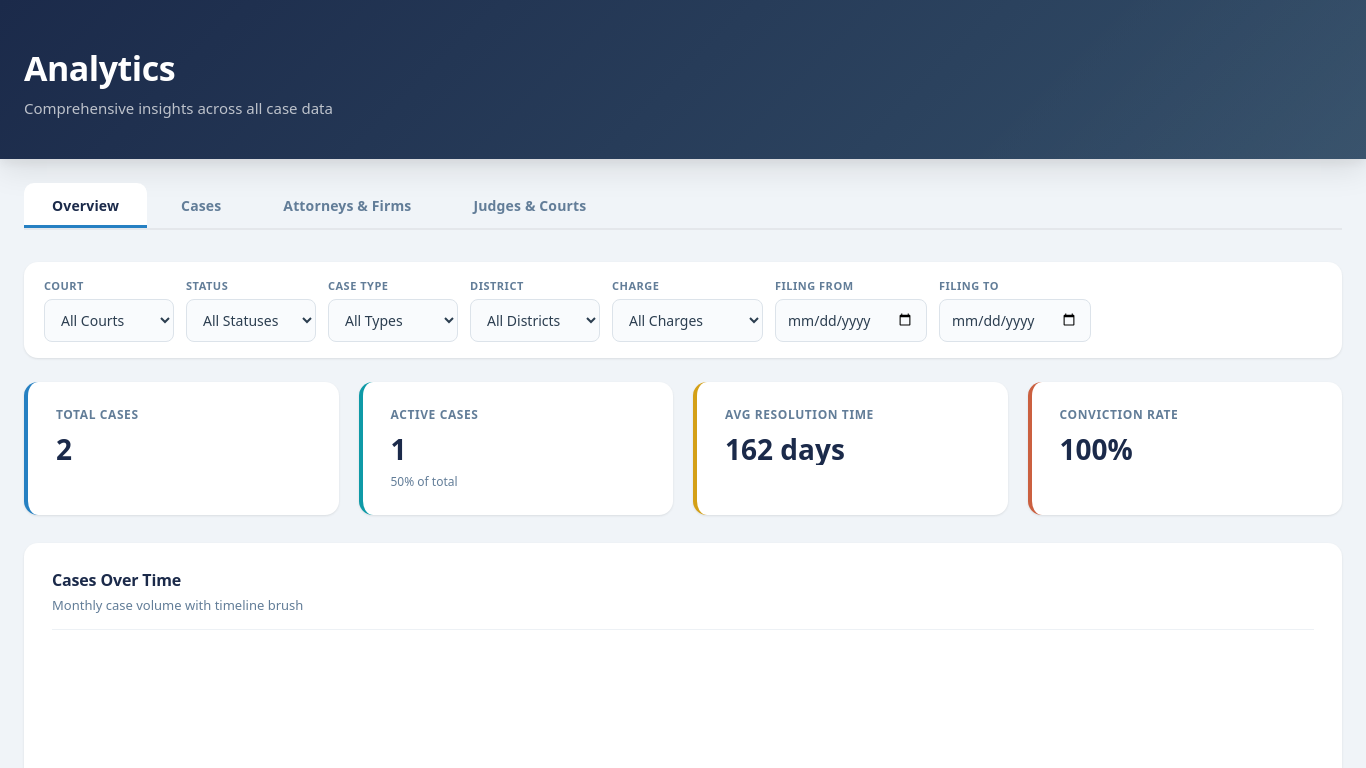
Analytics › switches to judges tab
The width and height of the screenshot is (1366, 768).
Click the button "Judges & Courts" at coordinates (530, 206), box [446,183,614,228]
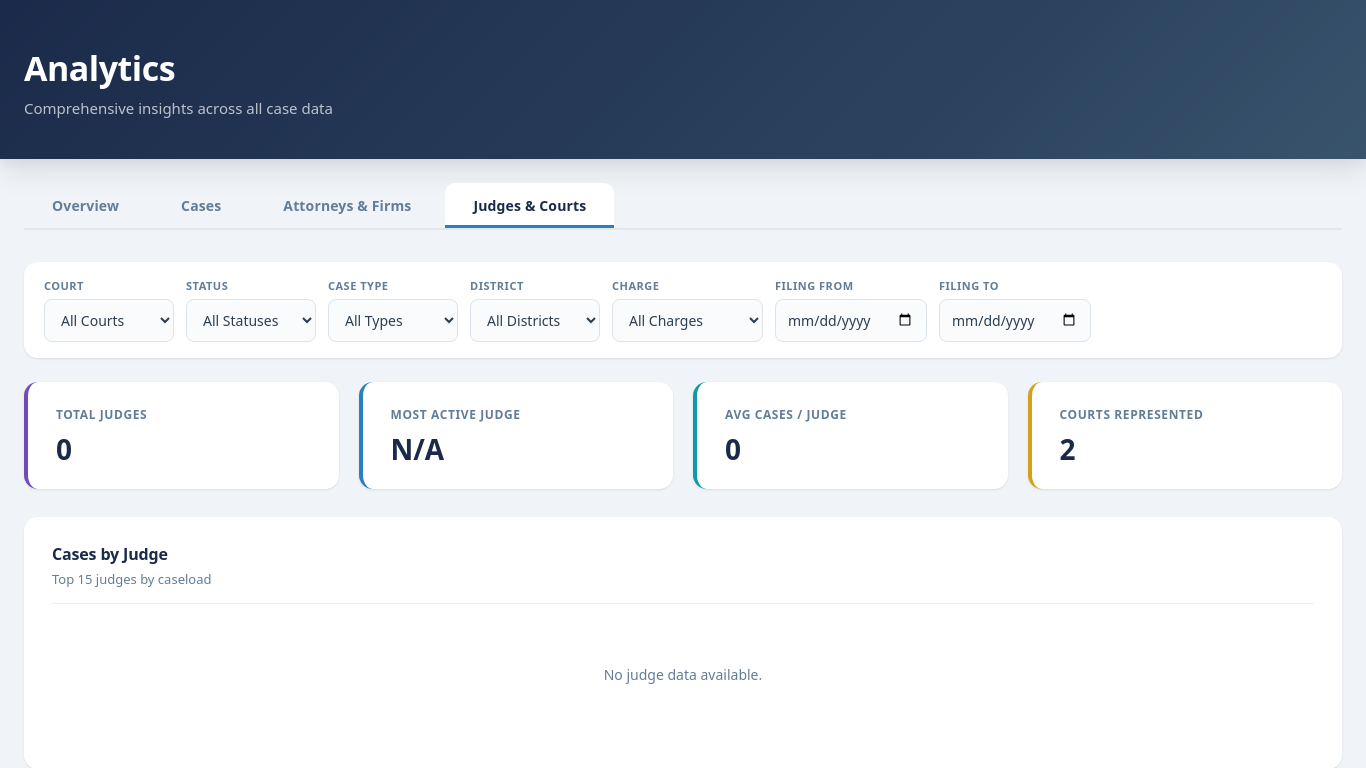
Now the text "Total Judges" is shown, box [56,406,147,423]
